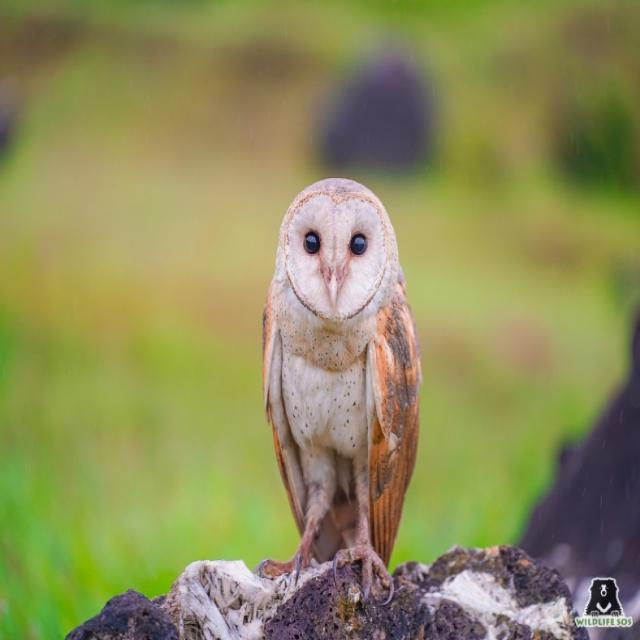owl: (225, 168, 462, 613)
